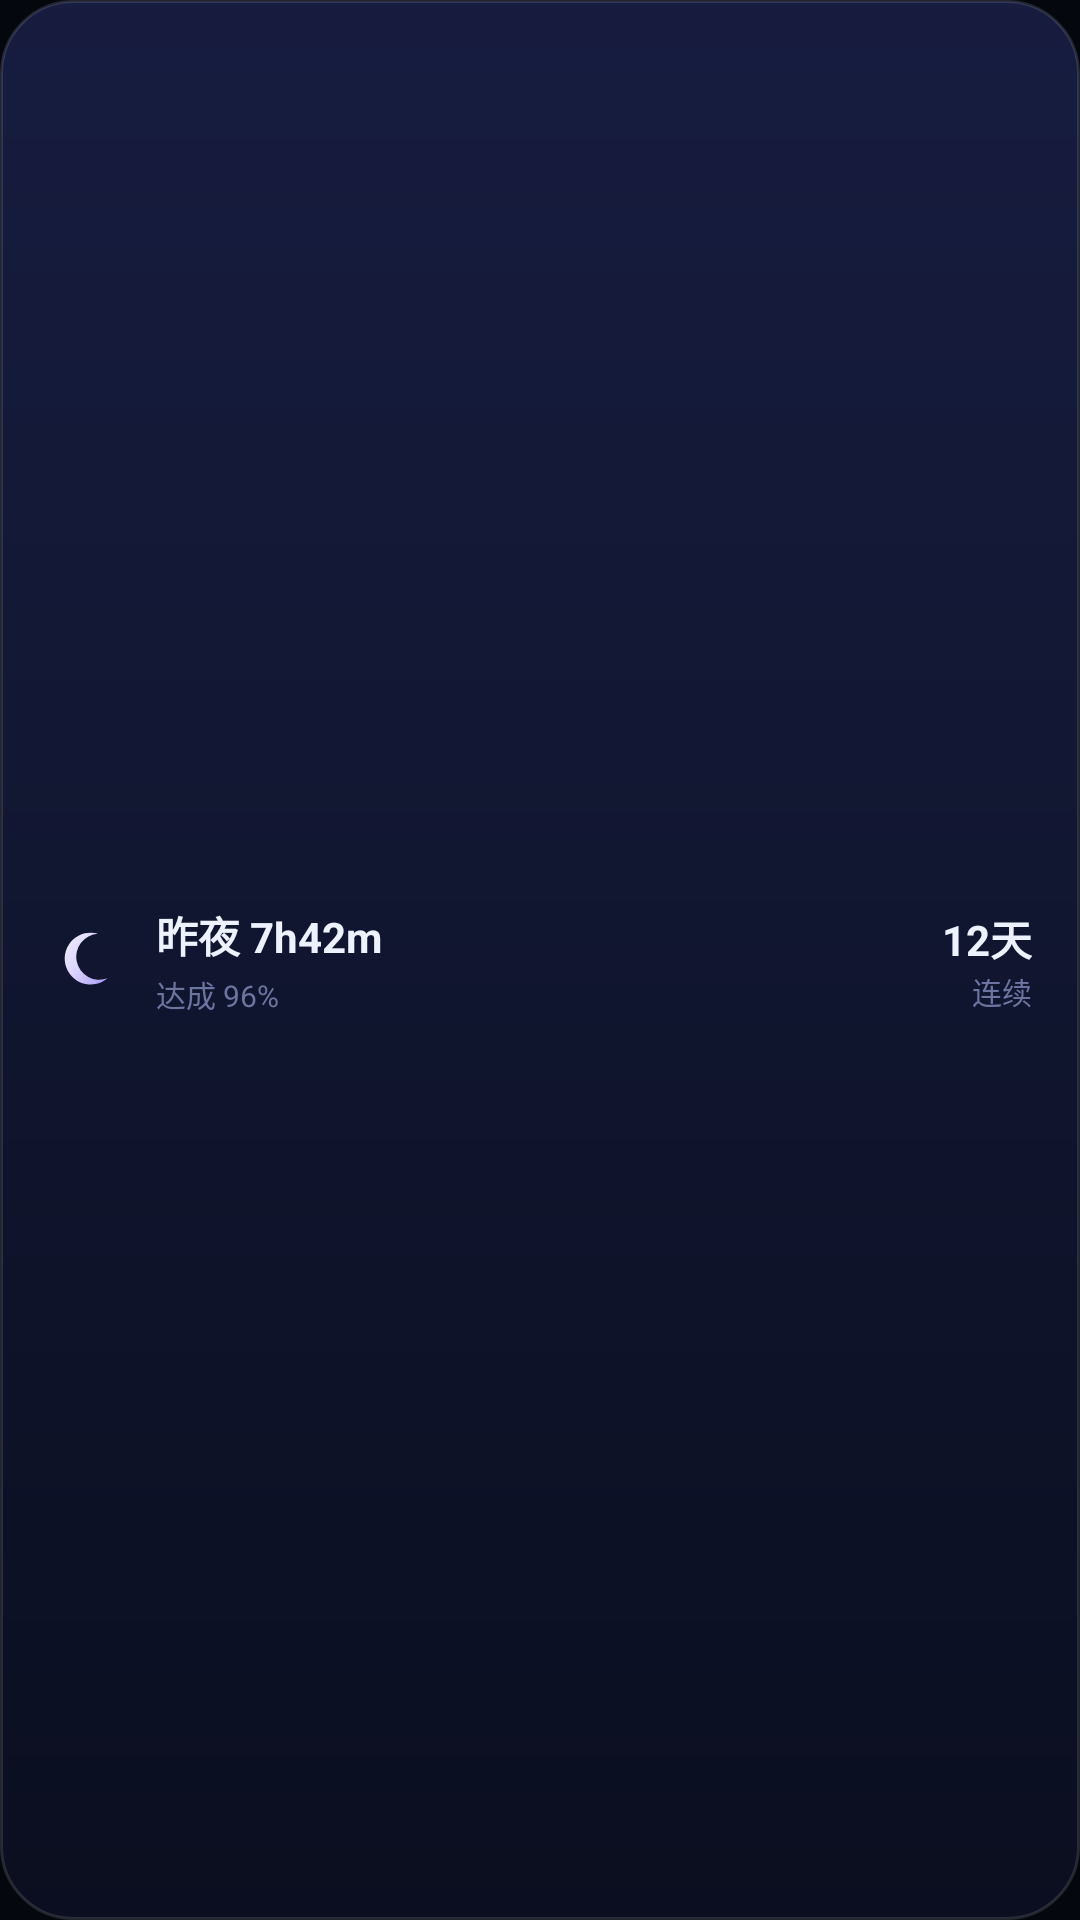

Screen size 1080w x 1920h. Icon name, then its center in pixels as [x,y]:
crescent brand: [85,958]
